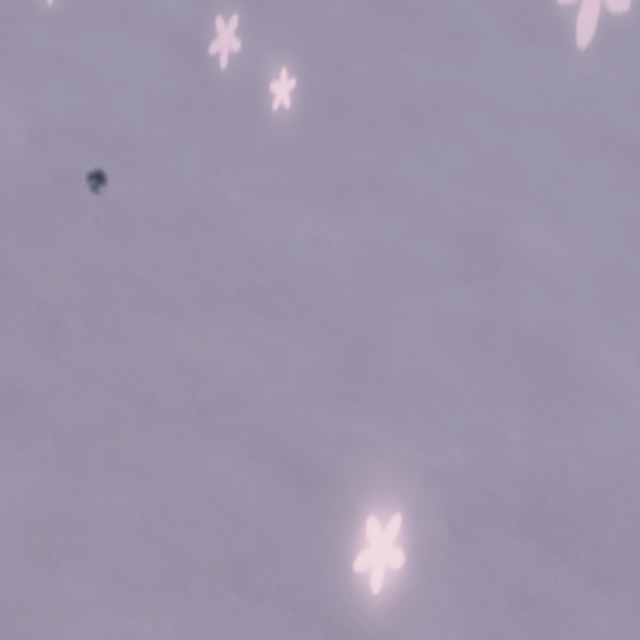urso_preto: (85, 165, 110, 198)
